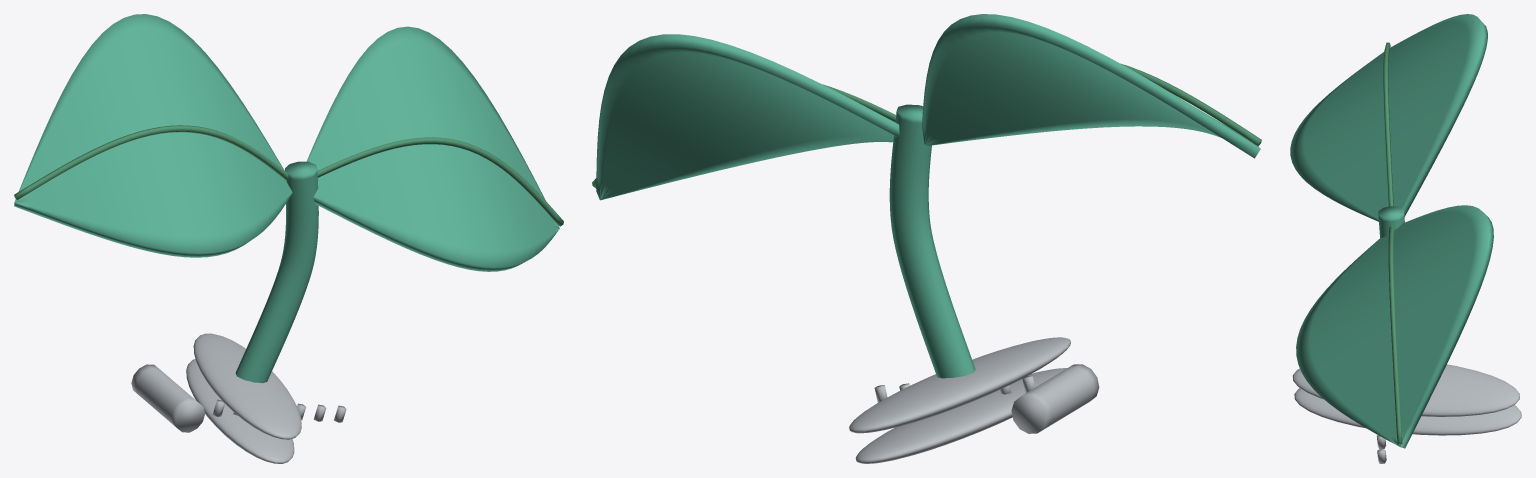
File: Masculine-buzz-ears252-sprout.glb
3 renders of one model, left to right at view 1: azimuth 30°, elevation 25°; view 2: azimuth 150°, elevation 25°; view 3: azimuth 270°, elevation 25°, orthographic. The views are drawn at different scales.
Parts seen in each view (by area): view 1: 226 extra / Accessory / mint226, 226 extra / Sprout / clip silver235, 226 extra / Sprout / leaf vein235; view 2: 226 extra / Accessory / mint226, 226 extra / Sprout / clip silver235, 226 extra / Sprout / leaf vein235; view 3: 226 extra / Accessory / mint226, 226 extra / Sprout / clip silver235, 226 extra / Sprout / leaf vein235.
Part boxes in pixels (x1,y1,x2,y2): 226 extra / Accessory / mint226: (14,14,559,383); 226 extra / Sprout / clip silver235: (131,333,346,463); 226 extra / Sprout / leaf vein235: (14,125,563,226); 226 extra / Accessory / mint226: (596,14,1260,378); 226 extra / Sprout / clip silver235: (849,337,1099,463); 226 extra / Sprout / leaf vein235: (592,63,1261,188); 226 extra / Accessory / mint226: (1290,14,1493,448); 226 extra / Sprout / clip silver235: (1292,364,1521,463); 226 extra / Sprout / leaf vein235: (1383,42,1402,444).
Size of the model in its own units: 0.2612 by 0.1815 by 0.1028.
